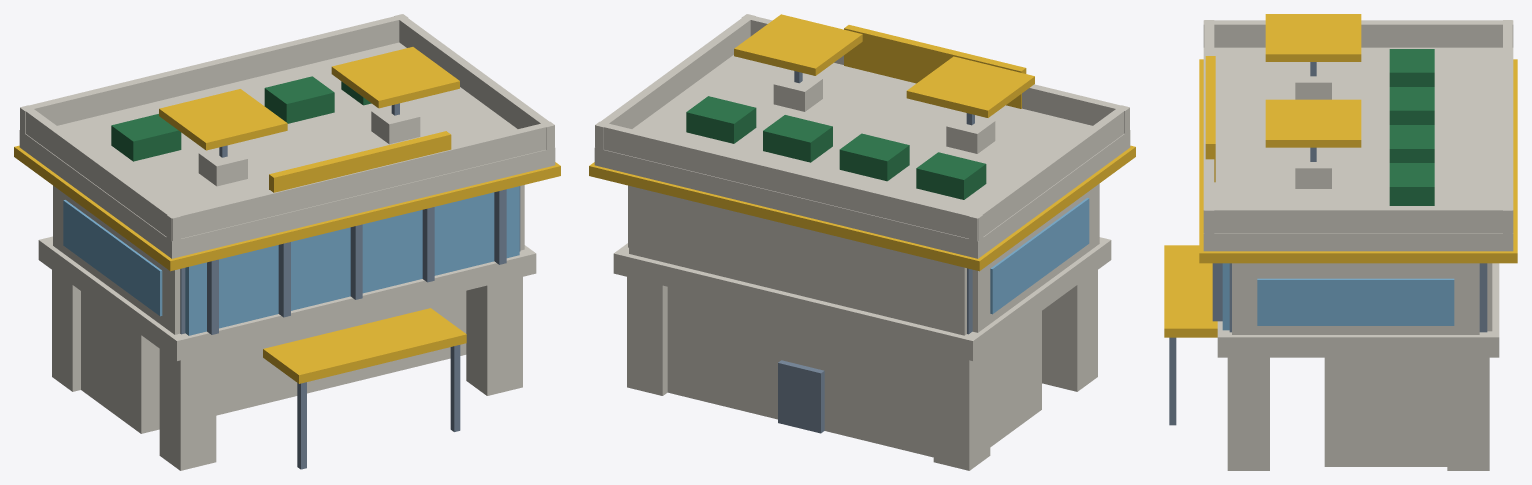
Rendered from vipSuite.glb.
3 renders of one model, left to right at view 1: azimuth 30°, elevation 25°; view 2: azimuth 150°, elevation 25°; view 3: azimuth 270°, elevation 25°, orthographic.
Visible parts, largest first — view 1: vipSuite_white, vipSuite_yellow, vipSuite_glass, vipSuite_steel, vipSuite_leafDark; view 2: vipSuite_white, vipSuite_yellow, vipSuite_leafDark, vipSuite_glass, vipSuite_steel; view 3: vipSuite_white, vipSuite_yellow, vipSuite_glass, vipSuite_leafDark, vipSuite_steel.
Part boxes in pixels (<box>): vipSuite_white: <box>19,14,555,470</box>; vipSuite_yellow: <box>14,47,560,383</box>; vipSuite_glass: <box>63,186,519,335</box>; vipSuite_steel: <box>180,103,520,469</box>; vipSuite_leafDark: <box>111,76,371,161</box>; vipSuite_white: <box>594,14,1130,470</box>; vipSuite_yellow: <box>589,14,1135,271</box>; vipSuite_leafDark: <box>686,96,986,199</box>; vipSuite_glass: <box>990,198,1089,314</box>; vipSuite_steel: <box>778,71,974,433</box>; vipSuite_white: <box>1203,20,1513,470</box>; vipSuite_yellow: <box>1164,14,1517,337</box>; vipSuite_glass: <box>1222,263,1454,330</box>; vipSuite_leafDark: <box>1389,49,1434,205</box>; vipSuite_steel: <box>1169,62,1487,425</box>.
Bounding box in the file's own units: 16.3 × 12.1 × 12.55.
